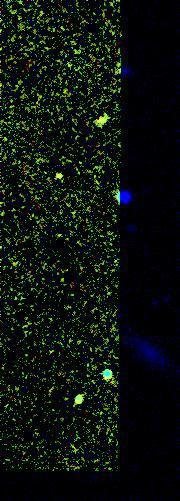star: (50, 162, 80, 192)
